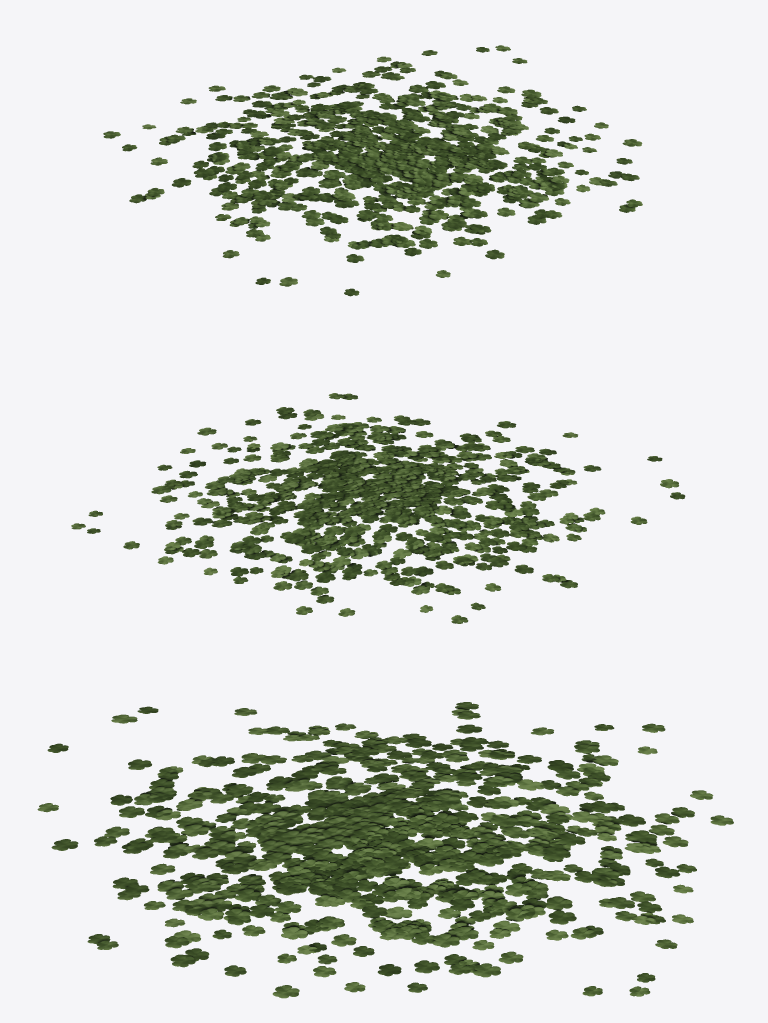
The model's file is Clover-01.fbx.
The picture shows the model from 3 angles, top to bottom: view 1: azimuth 30°, elevation 25°; view 2: azimuth 150°, elevation 25°; view 3: azimuth 270°, elevation 25°; orthographic projection. The views are drawn at different scales.
Visible parts, largest first — view 1: Clover-01; view 2: Clover-01; view 3: Clover-01.
Boxes of the visible parts, x1,y1,x2,y2 form: Clover-01: (103,45,642,296); Clover-01: (71,393,685,623); Clover-01: (37,702,733,998).
Size of the model in its own units: 161 by 6.88 by 161.
Materials: 1 (1 with a texture image).
